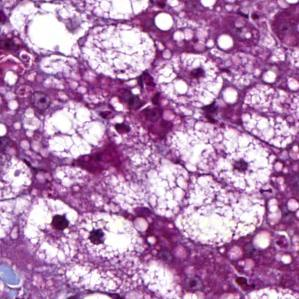ballooning: (80, 19, 161, 82), (18, 197, 85, 269), (72, 211, 149, 262)
